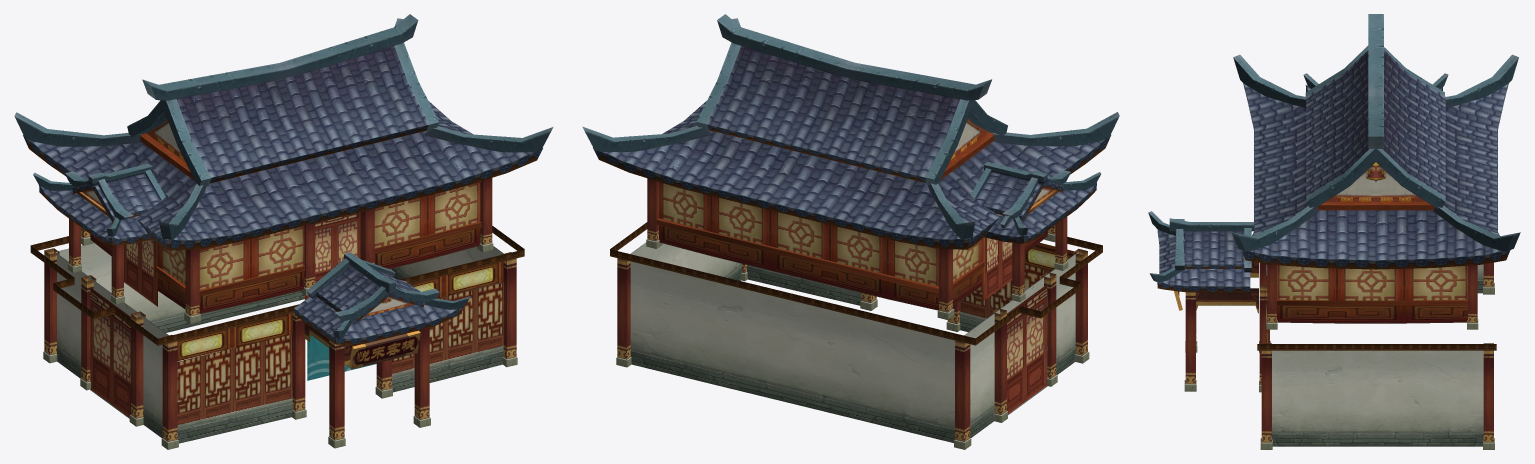
Rendered from szc_building_jiulou18.FBX.
The picture shows the model from 3 angles, left to right: view 1: azimuth 30°, elevation 25°; view 2: azimuth 150°, elevation 25°; view 3: azimuth 270°, elevation 25°; orthographic projection. The views are drawn at different scales.
Parts seen in each view (by area): view 1: szc_building_jiulou18; view 2: szc_building_jiulou18; view 3: szc_building_jiulou18.
Part boxes in pixels (left/top/right/bottom): szc_building_jiulou18: left=14, top=14, right=553, bottom=449; szc_building_jiulou18: left=582, top=14, right=1119, bottom=449; szc_building_jiulou18: left=1148, top=14, right=1520, bottom=449.
Bounding box in the file's own units: 687 × 502 × 575.
